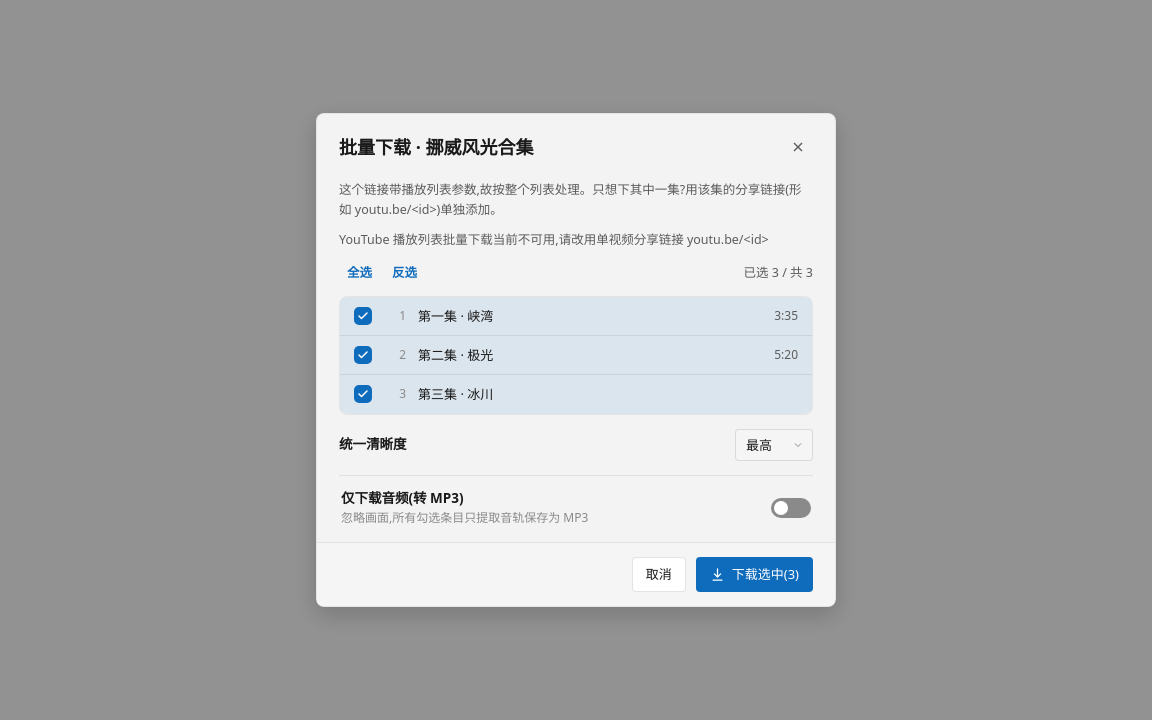
it: 反选:全选态 → 反选 → 全不选;再反选 → 全选(真正互换)
Click the button "反选" at x=404, y=273, box left=384, top=260, right=425, bottom=286
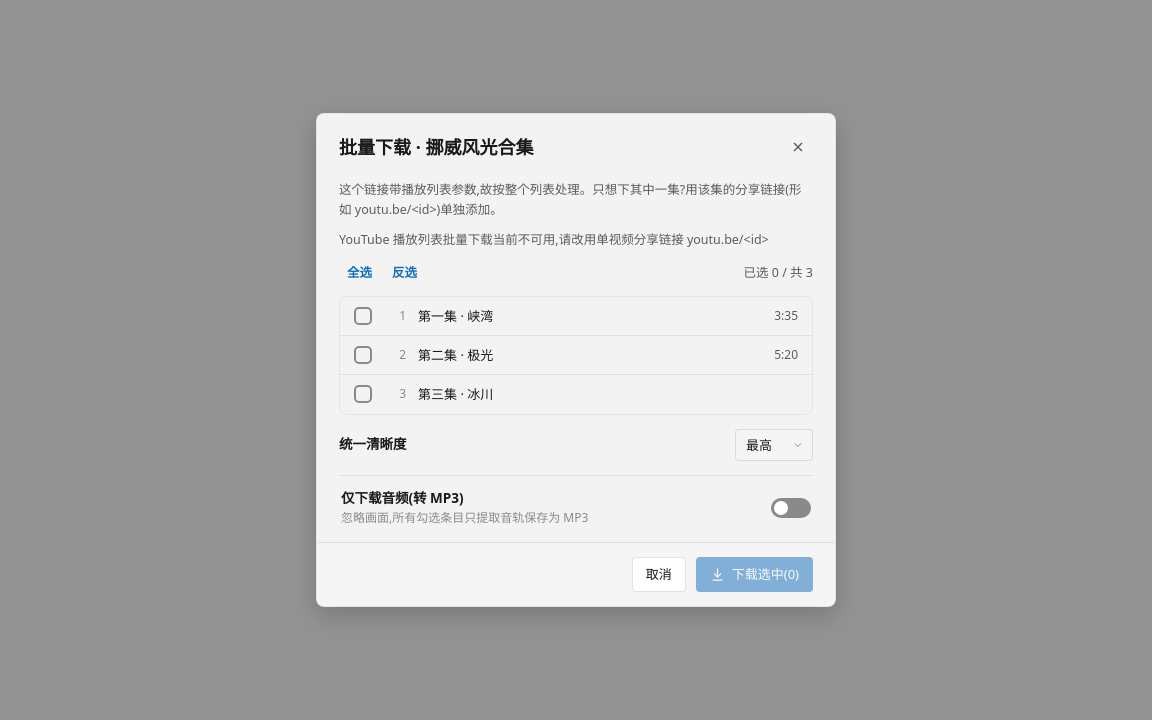
Check: the text "已选 0 / 共 3" is shown, box left=744, top=264, right=813, bottom=282
Click the button "反选" at x=404, y=273, box left=384, top=260, right=425, bottom=286
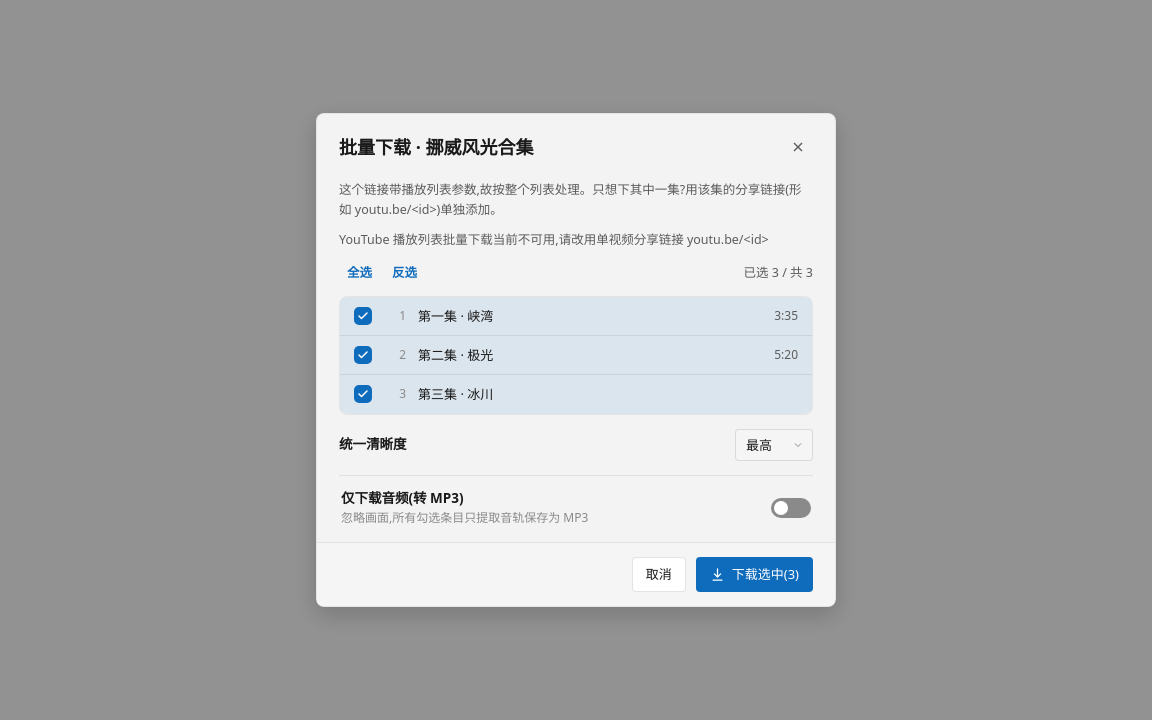
Check: the text "已选 3 / 共 3" is shown, box left=744, top=264, right=813, bottom=282
